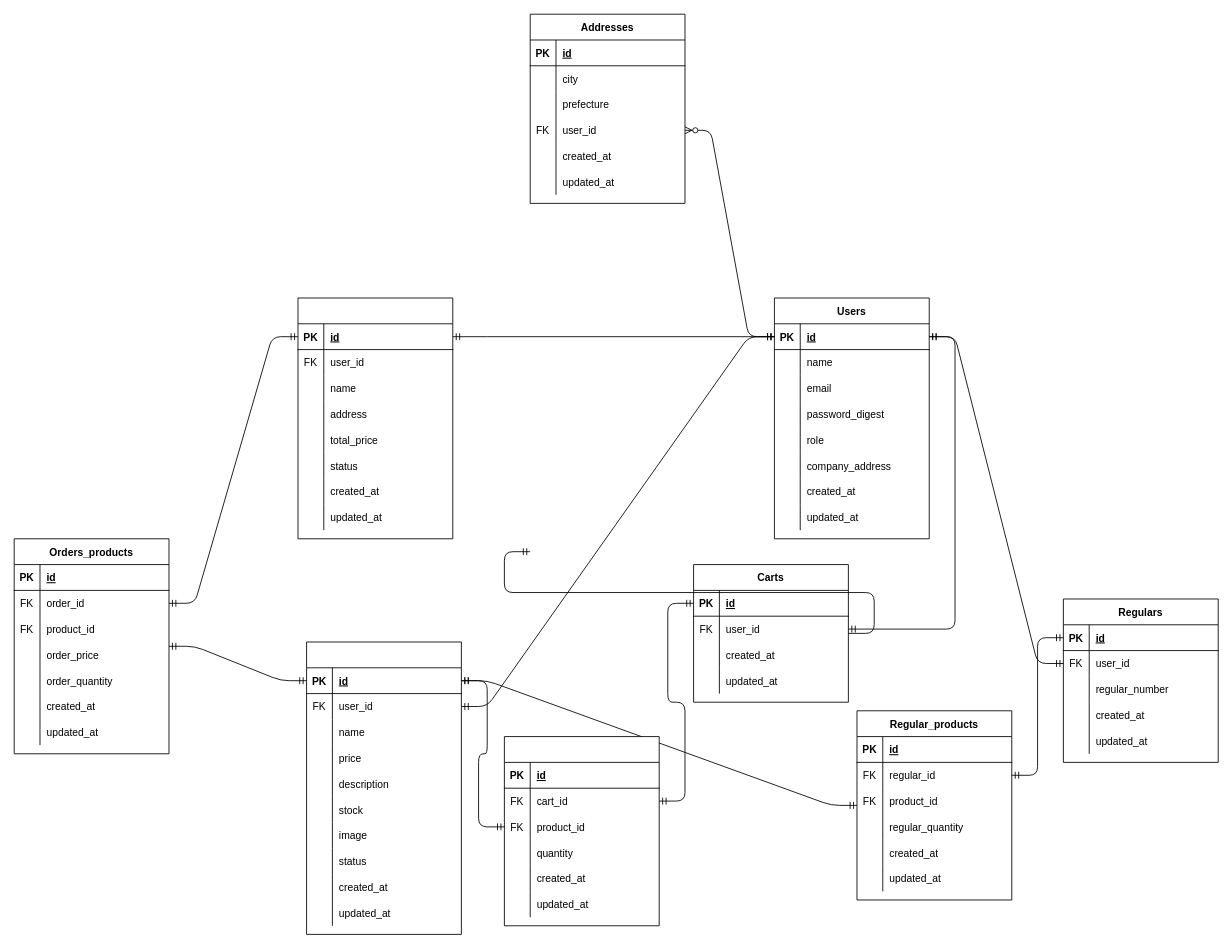
Some shapes in this 1232 by 949 pixel diagram are drawn without their labels. Each missing label, with the box of its shape:
Cart_items: (504, 736, 659, 926)
Orders: (297, 297, 453, 539)
products: (306, 641, 461, 934)
